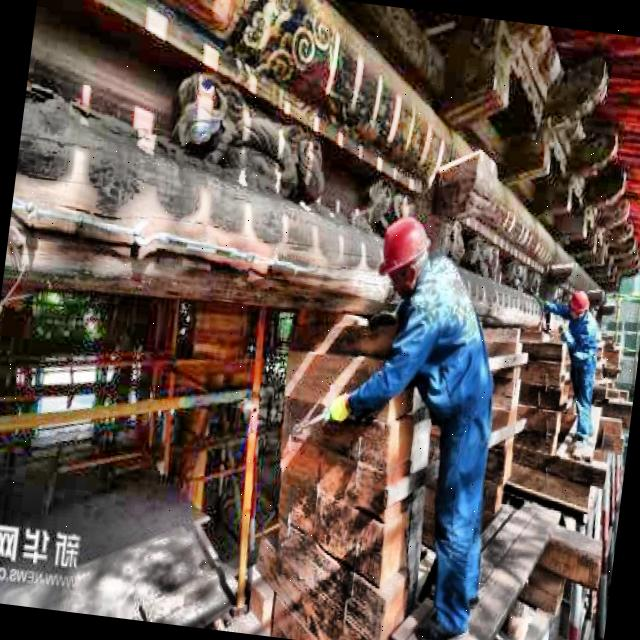helmet: (371, 210, 436, 302), (565, 286, 595, 324)
